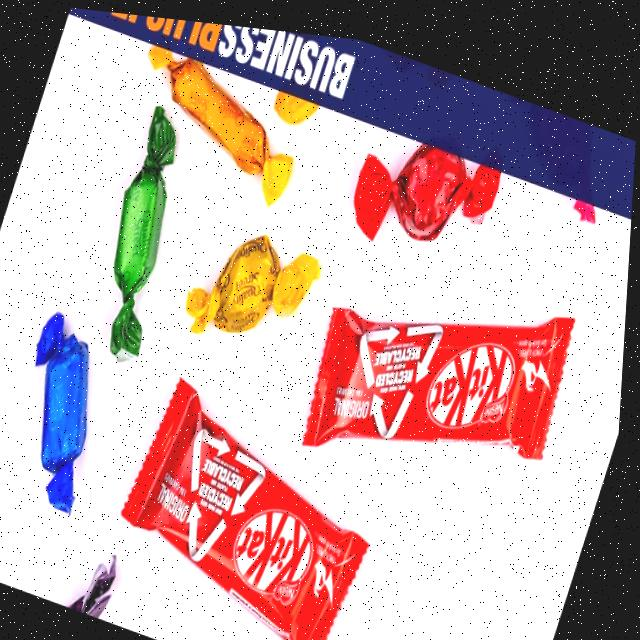kitkat: (294, 225, 587, 513), (101, 360, 402, 640)
